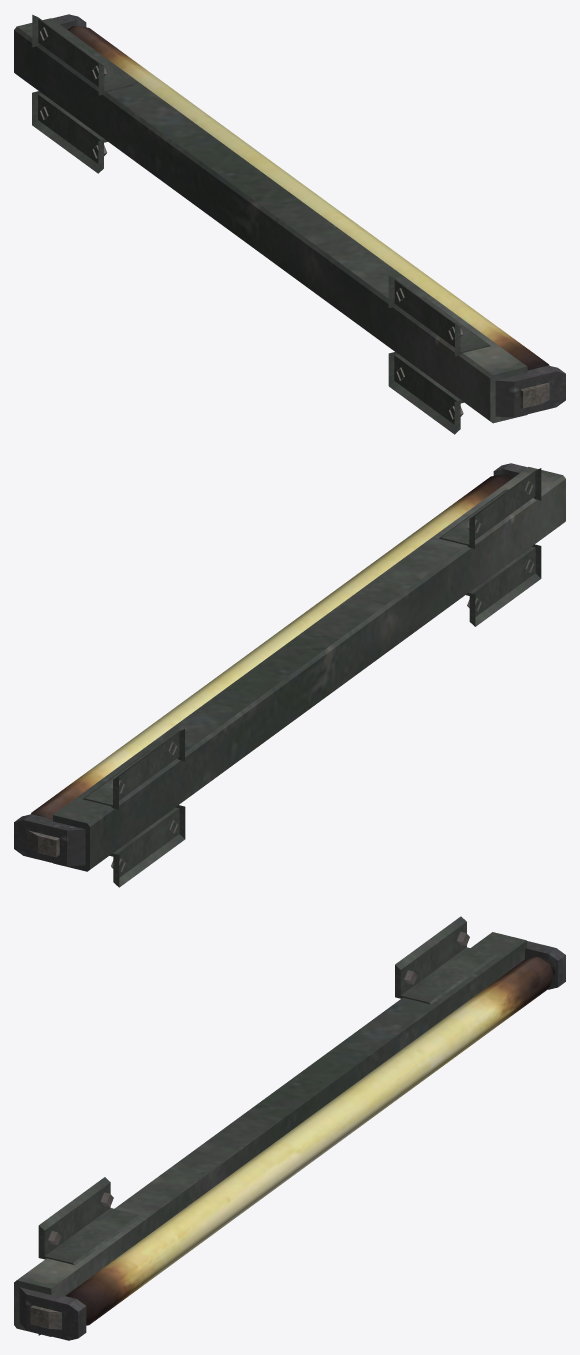
File: lab_flourescentlight002b.glb
3 renders of one model, top to bottom at view 1: azimuth 30°, elevation 25°; view 2: azimuth 150°, elevation 25°; view 3: azimuth 330°, elevation 25°, orthographic.
Parts seen in each view (by area): view 1: lab_flourescentlight002b; view 2: lab_flourescentlight002b; view 3: lab_flourescentlight002b.
Part boxes in pixels (<box>): lab_flourescentlight002b: <box>14,14,565,434</box>; lab_flourescentlight002b: <box>14,463,565,887</box>; lab_flourescentlight002b: <box>14,916,565,1340</box>.
Size of the model in its own units: 0.1074 by 0.1468 by 1.19.
1 material, 1 textured.
